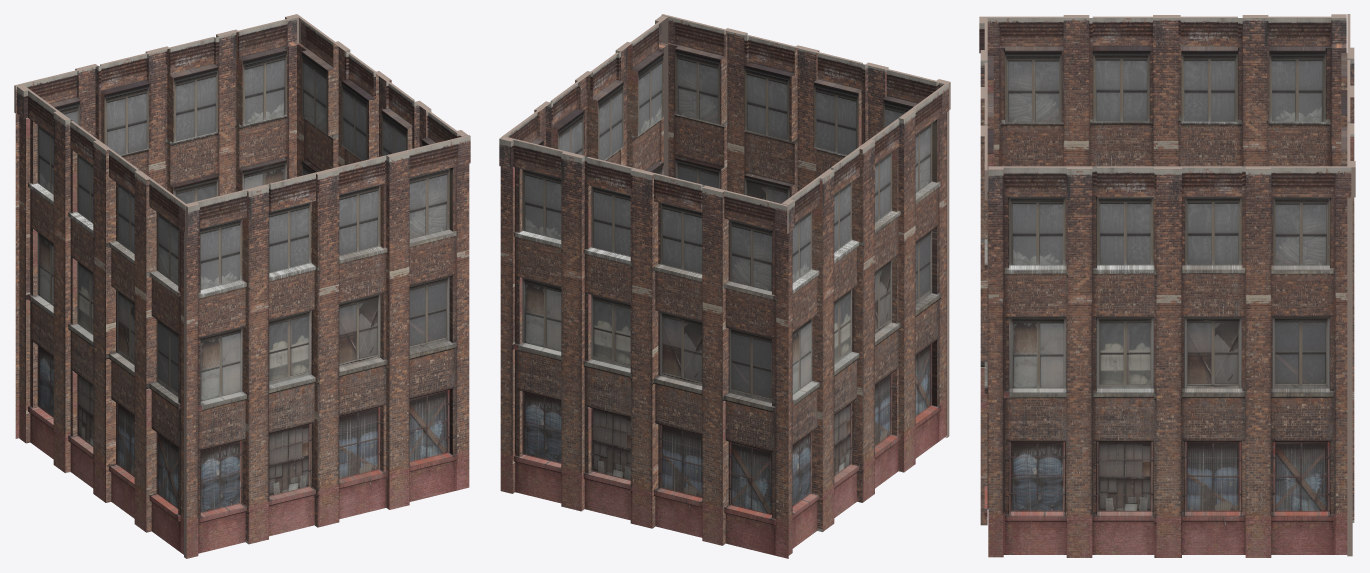
Rendered from building.glb.
The picture shows the model from 3 angles, left to right: view 1: azimuth 30°, elevation 25°; view 2: azimuth 150°, elevation 25°; view 3: azimuth 270°, elevation 25°; orthographic projection. The views are drawn at different scales.
Parts seen in each view (by area): view 1: TexturesCom_BuildingsIndustrial0097_2_M.001_0; view 2: TexturesCom_BuildingsIndustrial0097_2_M.001_0; view 3: TexturesCom_BuildingsIndustrial0097_2_M.001_0.
Boxes of the visible parts, x1=… form: TexturesCom_BuildingsIndustrial0097_2_M.001_0: x1=14, y1=14, x2=470, y2=558; TexturesCom_BuildingsIndustrial0097_2_M.001_0: x1=499, y1=14, x2=950, y2=558; TexturesCom_BuildingsIndustrial0097_2_M.001_0: x1=979, y1=14, x2=1355, y2=557.
Bounding box in the file's own units: 2.18 × 2.53 × 2.22.
2 materials, 2 textured.
